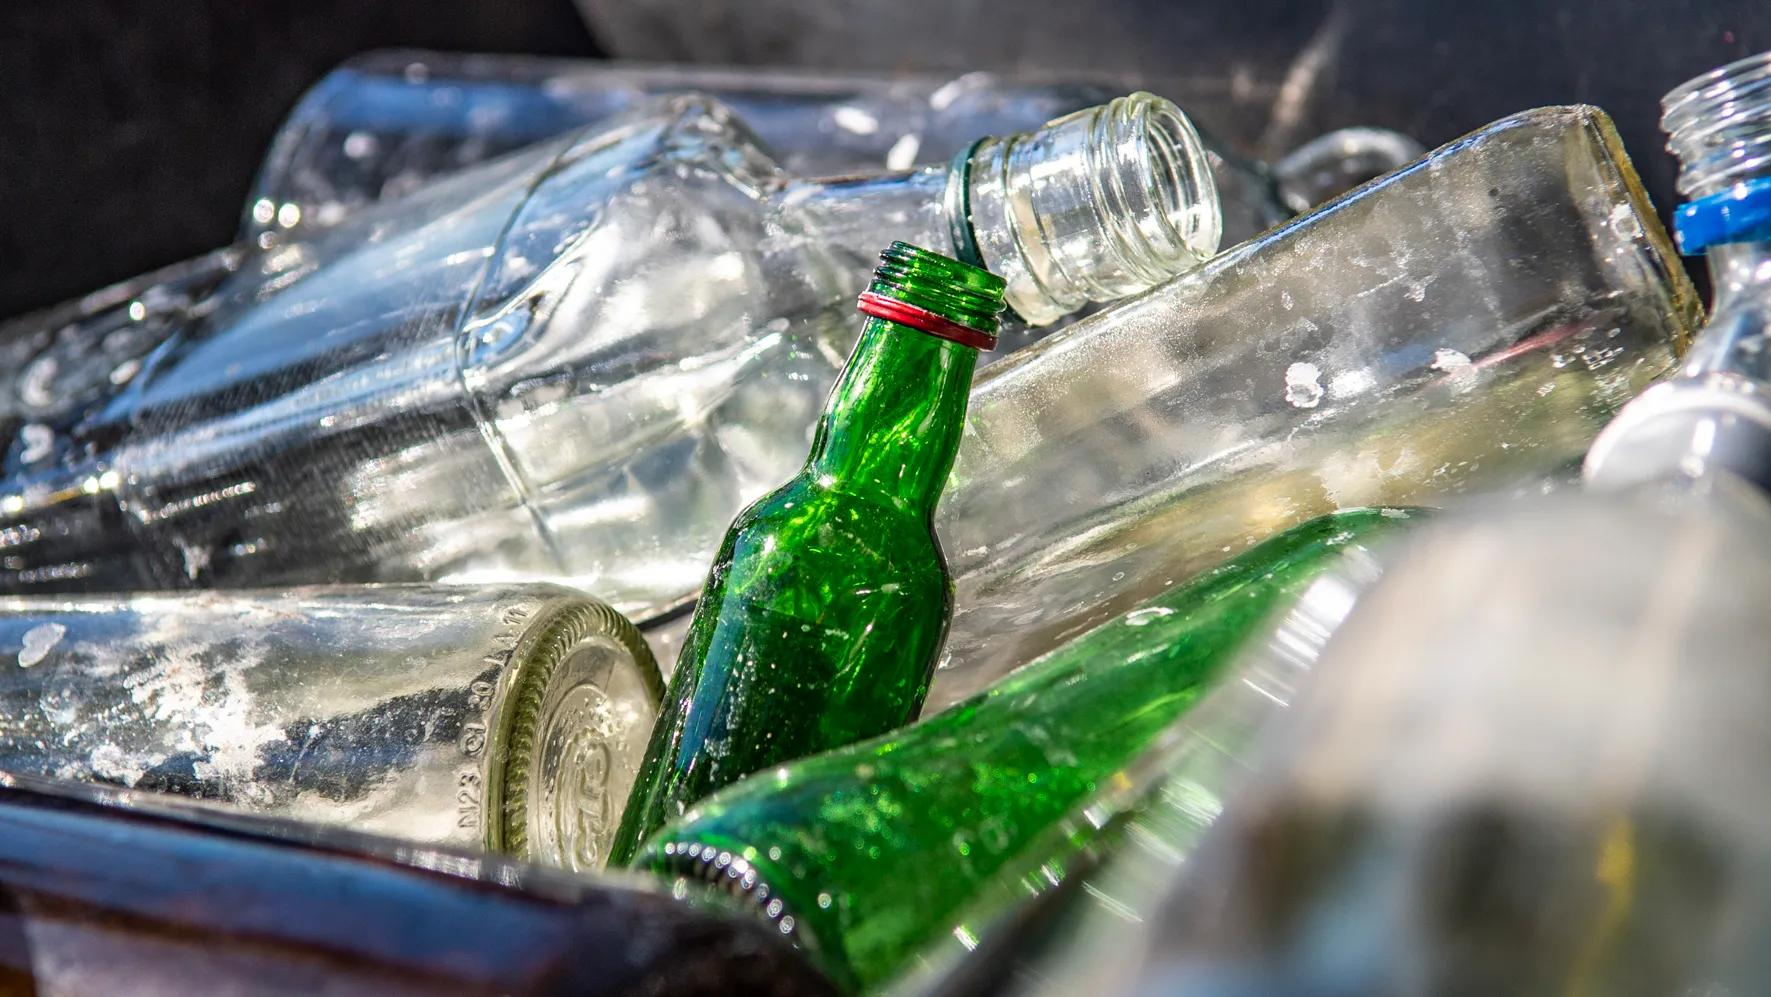glass: (0, 80, 1193, 554), (968, 72, 1771, 637), (642, 512, 1443, 946), (652, 250, 991, 813), (0, 768, 822, 997)
